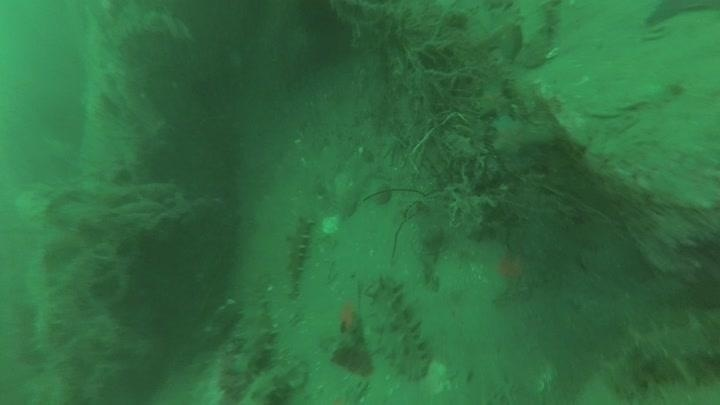holothurian: (600, 312, 719, 399), (360, 273, 434, 383), (229, 294, 279, 377), (237, 357, 310, 404), (279, 213, 316, 297)
starfish: (641, 1, 719, 31)
